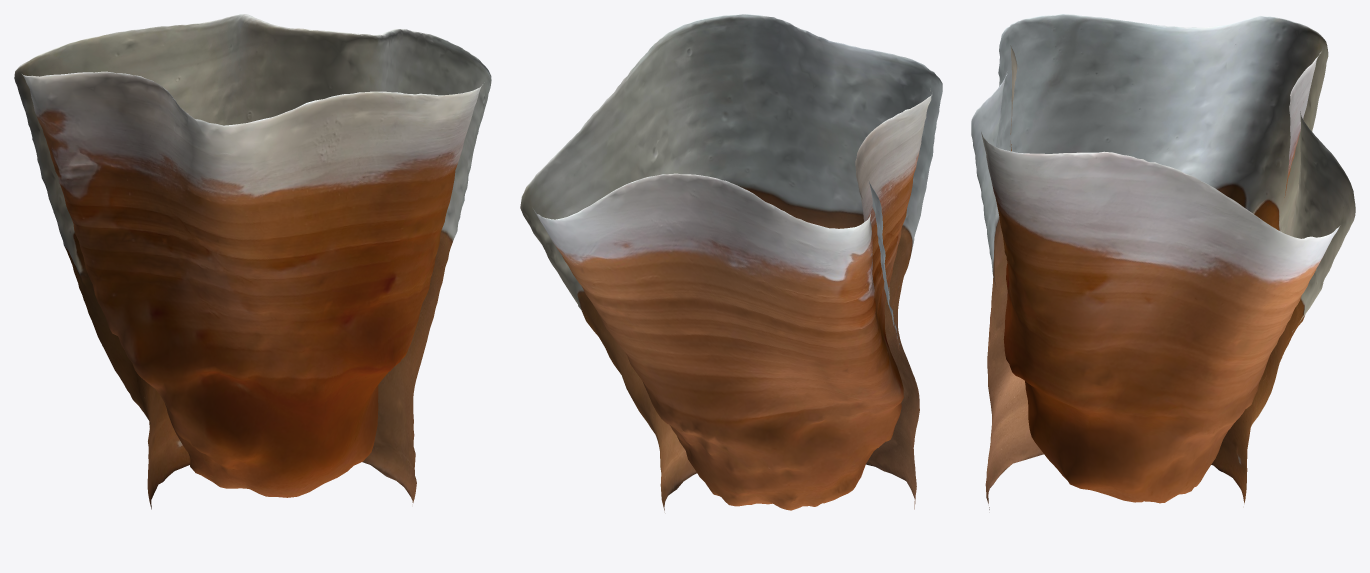
3 views of the same model, side by side, from view 1: azimuth 30°, elevation 25°; view 2: azimuth 150°, elevation 25°; view 3: azimuth 270°, elevation 25° (orthographic). The views are drawn at different scales.
Visible parts, largest first — view 1: mesh_0; view 2: mesh_0; view 3: mesh_0.
Boxes of the visible parts, x1,y1,x2,y2 form: mesh_0: (14, 14, 491, 509); mesh_0: (520, 14, 942, 510); mesh_0: (971, 14, 1355, 509).
Bounding box in the file's own units: 0.1421 × 0.1704 × 0.1337.
1 material, 1 textured.
